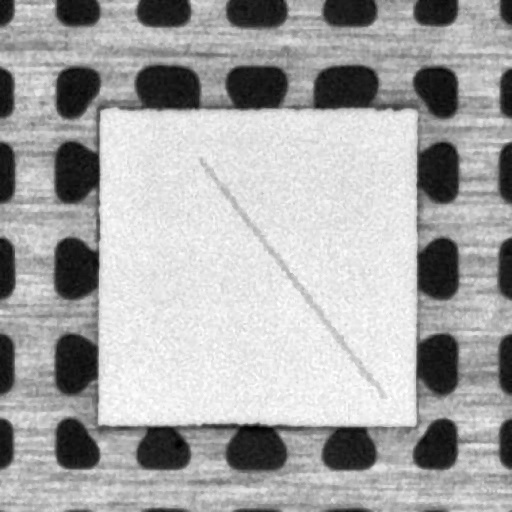DIE_CRACK: (199, 158, 382, 397)
